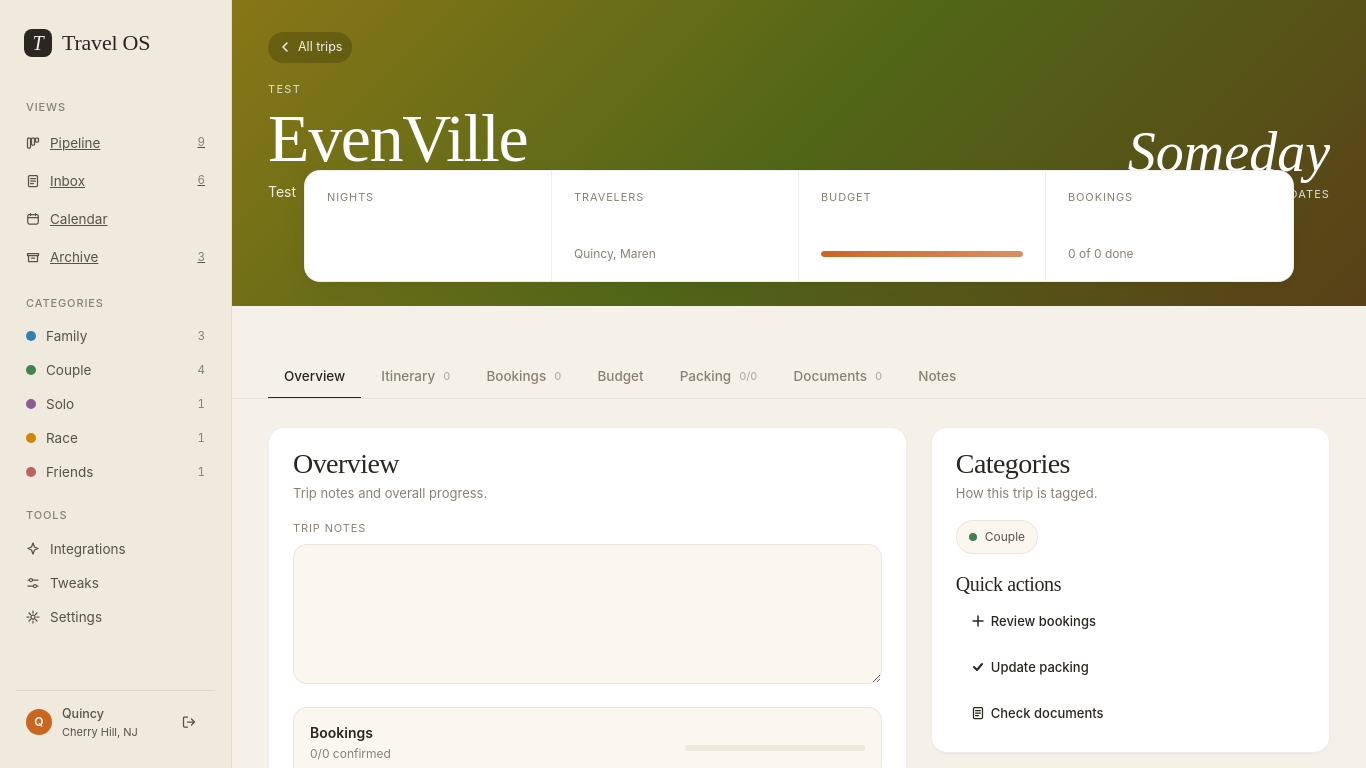
Test: route components › budget split shows even balance and hides settle-up when all square
Expected: the heading "EvenVille" is shown, 268,107 -> 527,171
What coordinates should you click on to do the following:
click the tab "Budget"
I would click on:
 (620, 378)
Its box is 581,358 -> 660,399.
(page scrolled)
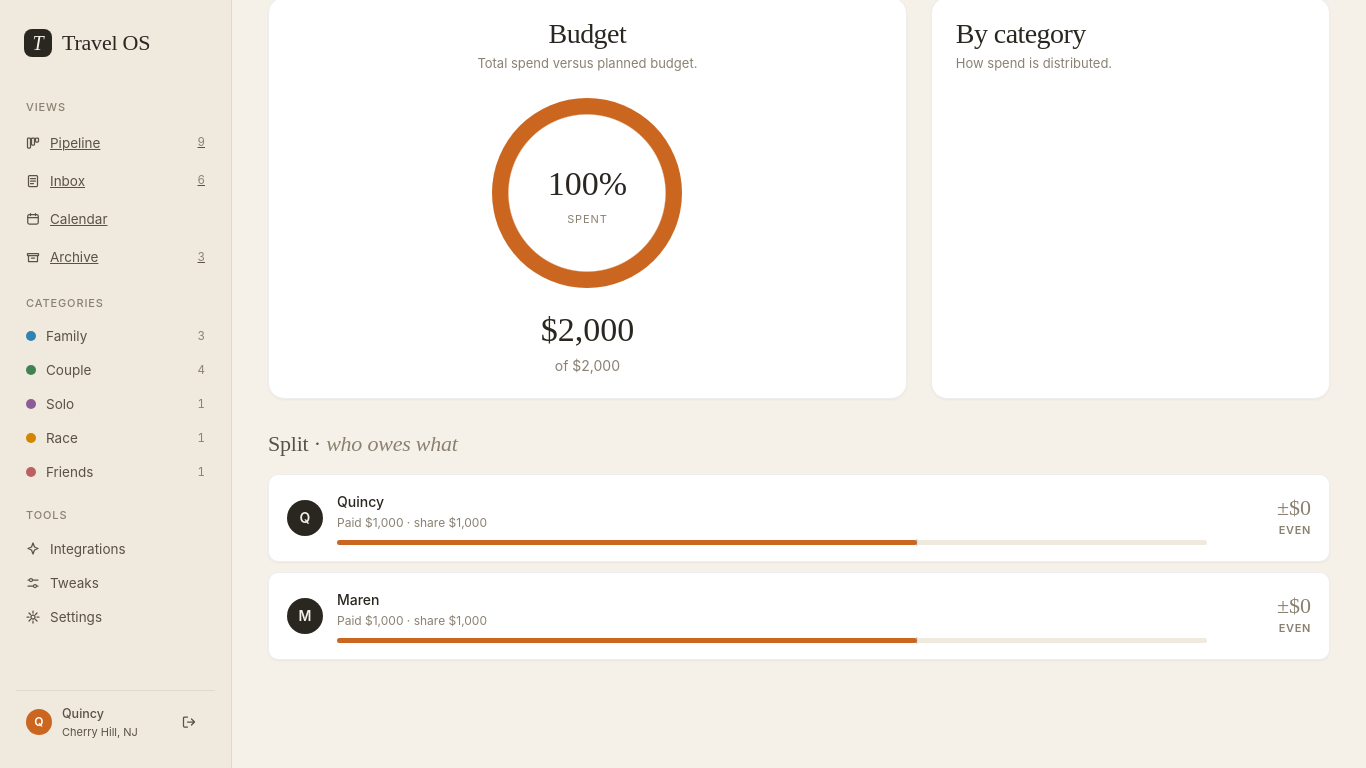
Now the 1st text "±$0" is shown, box 1277,495 -> 1311,520
Now the 1st text "even" is shown, box 1279,523 -> 1311,537
